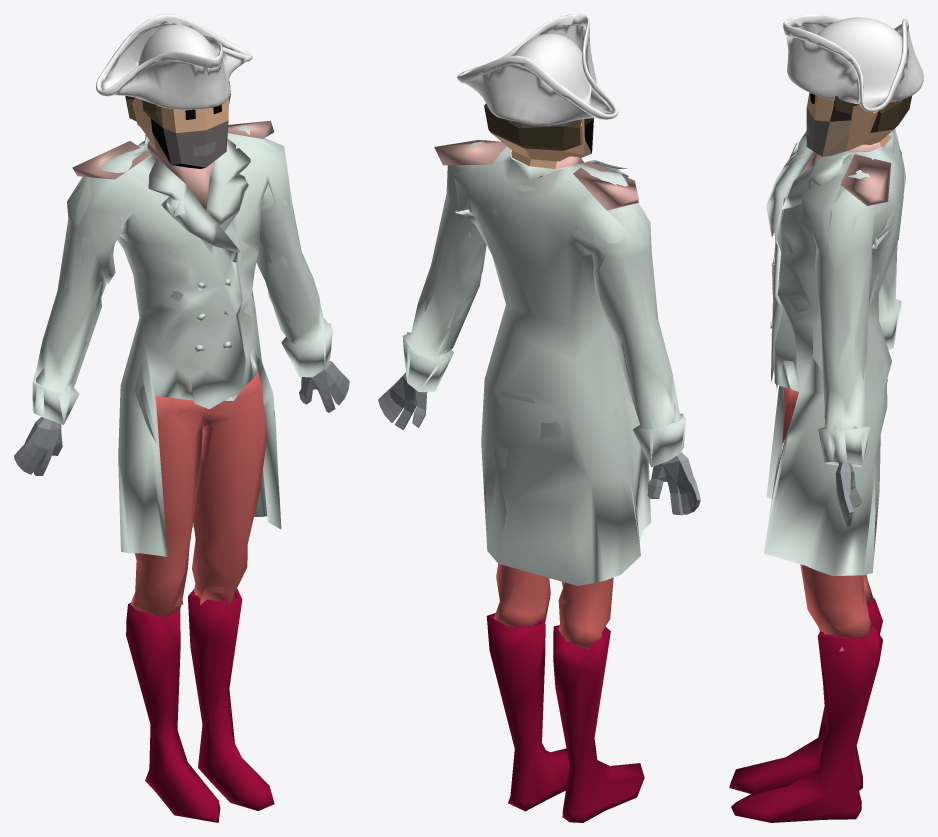
The model's file is NapoleonBody2.fbx.
3 views of the same model, side by side, from view 1: azimuth 30°, elevation 25°; view 2: azimuth 150°, elevation 25°; view 3: azimuth 270°, elevation 25° (orthographic). The views are drawn at different scales.
Visible parts, largest first — view 1: social shirt, pants, boot, tricorn_french_base, SK_Chr_Salesman_Male_01, SK_Chr_Salesman_Male_01.001, shoulder pads, collar; view 2: social shirt, boot, tricorn_french_base, pants, SK_Chr_Salesman_Male_01, SK_Chr_Salesman_Male_01.001, shoulder pads; view 3: social shirt, boot, tricorn_french_base, pants, SK_Chr_Salesman_Male_01, shoulder pads, SK_Chr_Salesman_Male_01.001.
Part boxes in pixels (box(x1,y1,x2,y2)): social shirt: box(32, 125, 332, 556); pants: box(130, 371, 267, 616); boot: box(126, 588, 274, 822); tricorn_french_base: box(96, 14, 252, 109); SK_Chr_Salesman_Male_01: box(125, 81, 230, 168); SK_Chr_Salesman_Male_01.001: box(14, 360, 349, 475); shoulder pads: box(72, 120, 274, 179); collar: box(147, 141, 214, 210); social shirt: box(402, 141, 686, 585); boot: box(486, 613, 644, 822); tricorn_french_base: box(457, 14, 618, 125); pants: box(494, 563, 613, 653); SK_Chr_Salesman_Male_01: box(484, 103, 593, 168); SK_Chr_Salesman_Male_01.001: box(378, 373, 700, 515); shoulder pads: box(434, 139, 638, 210); social shirt: box(764, 128, 905, 576); boot: box(729, 597, 882, 822); tricorn_french_base: box(783, 14, 923, 112); pants: box(782, 387, 873, 651); SK_Chr_Salesman_Male_01: box(806, 92, 912, 156); shoulder pads: box(840, 154, 891, 205); SK_Chr_Salesman_Male_01.001: box(835, 379, 887, 528).
Bounding box in the file's own units: 101 × 224 × 50.32.
